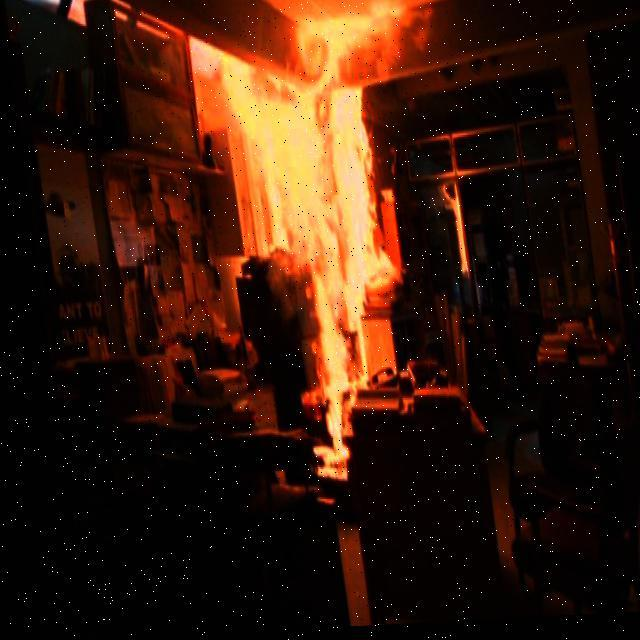Fire: (211, 14, 463, 482)
